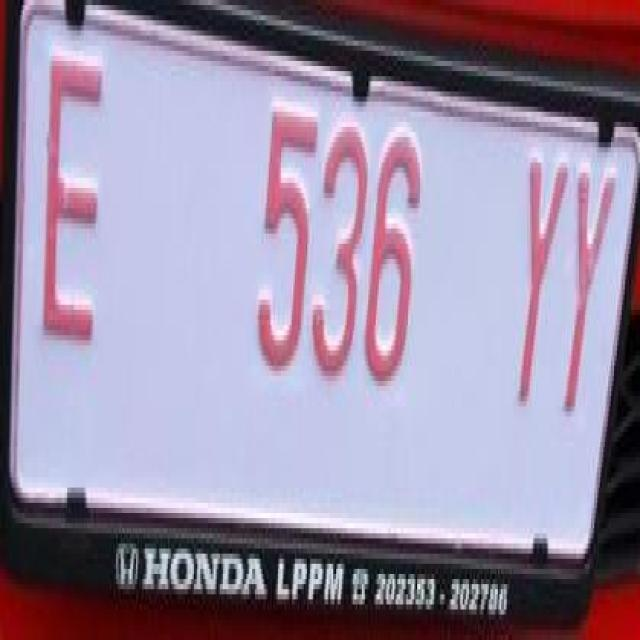3: (304, 94, 376, 419)
5: (251, 84, 324, 394)
6: (357, 112, 432, 439)
E: (33, 30, 112, 368)
Y: (501, 135, 577, 444), (551, 145, 626, 457)
